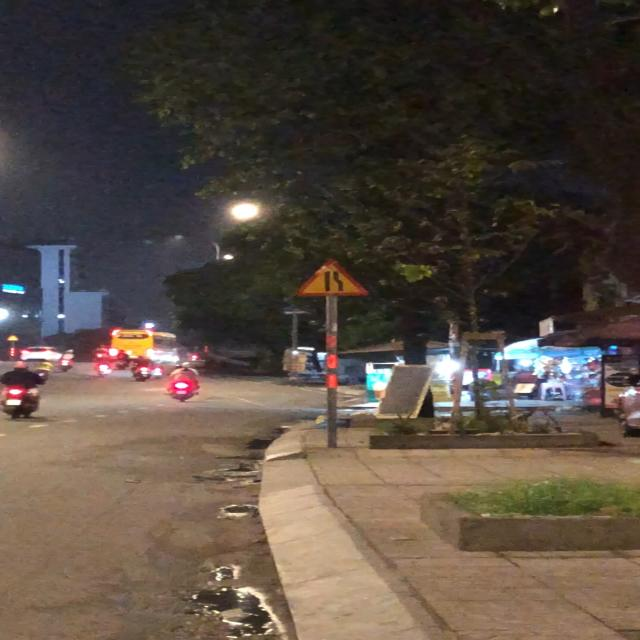Bien bao duong bi thu hep: (288, 252, 379, 298)
